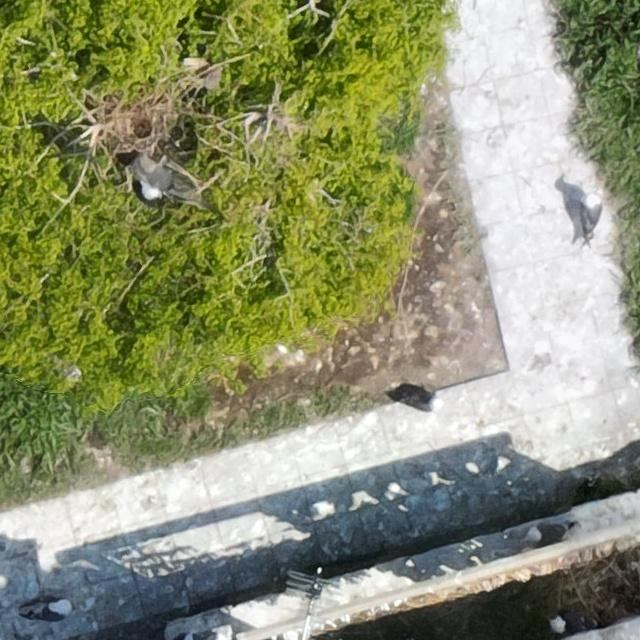F: (133, 151, 194, 207)
umineko: (581, 193, 605, 242), (549, 614, 601, 634), (532, 522, 570, 544), (31, 603, 70, 622), (406, 396, 439, 413)
